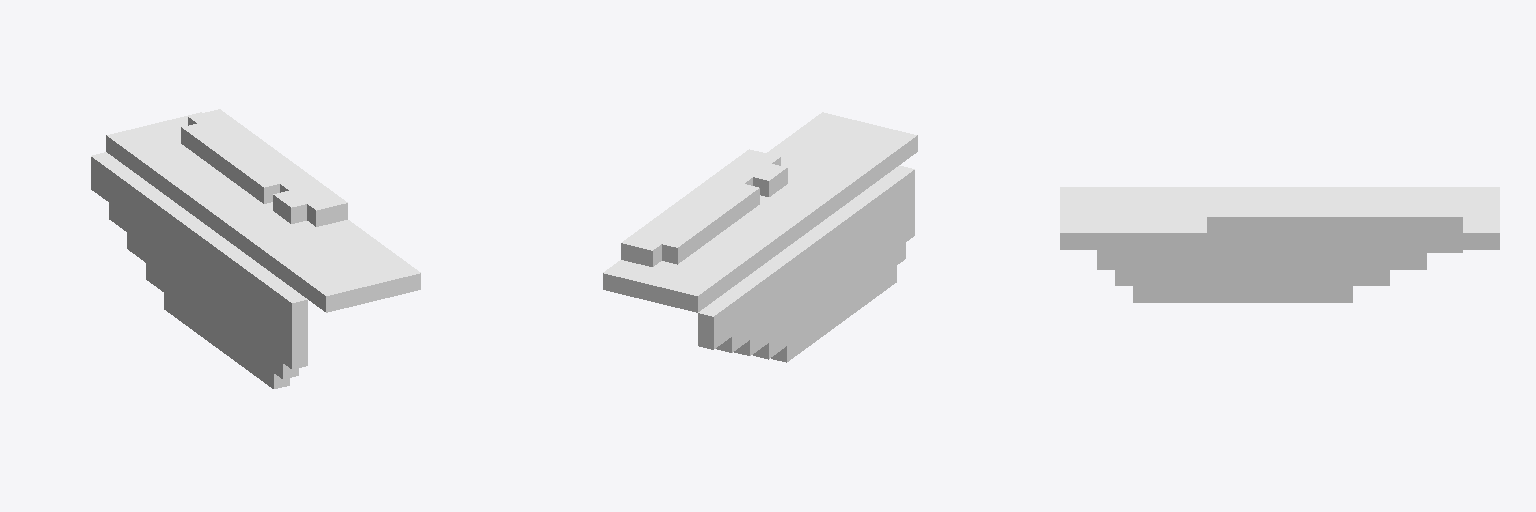
File: Extra-1-StarMarine_Hood_R.obj
3 renders of one model, left to right at view 1: azimuth 30°, elevation 25°; view 2: azimuth 150°, elevation 25°; view 3: azimuth 270°, elevation 25°, orthographic.
Visible parts, largest first — view 1: StarMarine_Hood_R; view 2: StarMarine_Hood_R; view 3: StarMarine_Hood_R.
Part boxes in pixels (bbox=[...]): StarMarine_Hood_R: bbox=[91, 109, 420, 388]; StarMarine_Hood_R: bbox=[603, 112, 917, 362]; StarMarine_Hood_R: bbox=[1060, 187, 1499, 302].
Bounding box in the file's own units: 0.7 × 0.8 × 2.4.